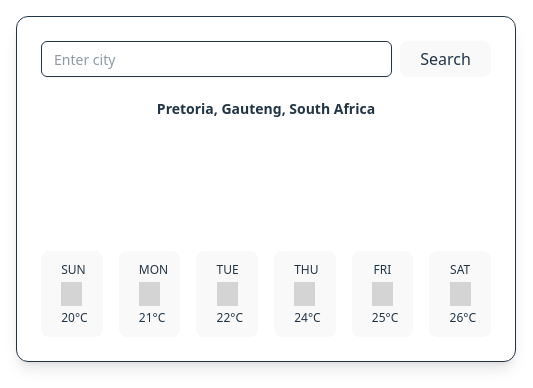
Scenario: App › renders weather data and handles user interaction
Expected: the text "Pretoria, Gauteng, South Africa" is shown, [157, 99, 375, 118]
Click the button with test id "^forecast-day-". click: point(72, 294)
box: [41, 251, 103, 337]
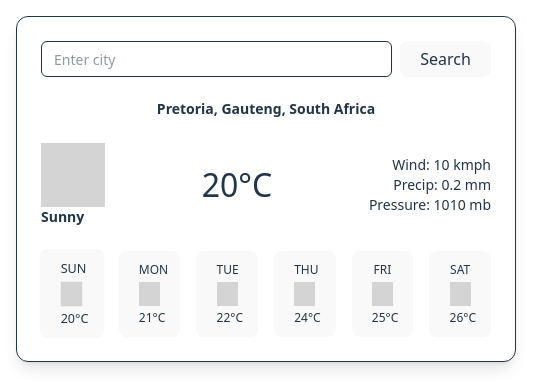
Expected: the text "Sunny" is shown, [41, 207, 84, 227]
